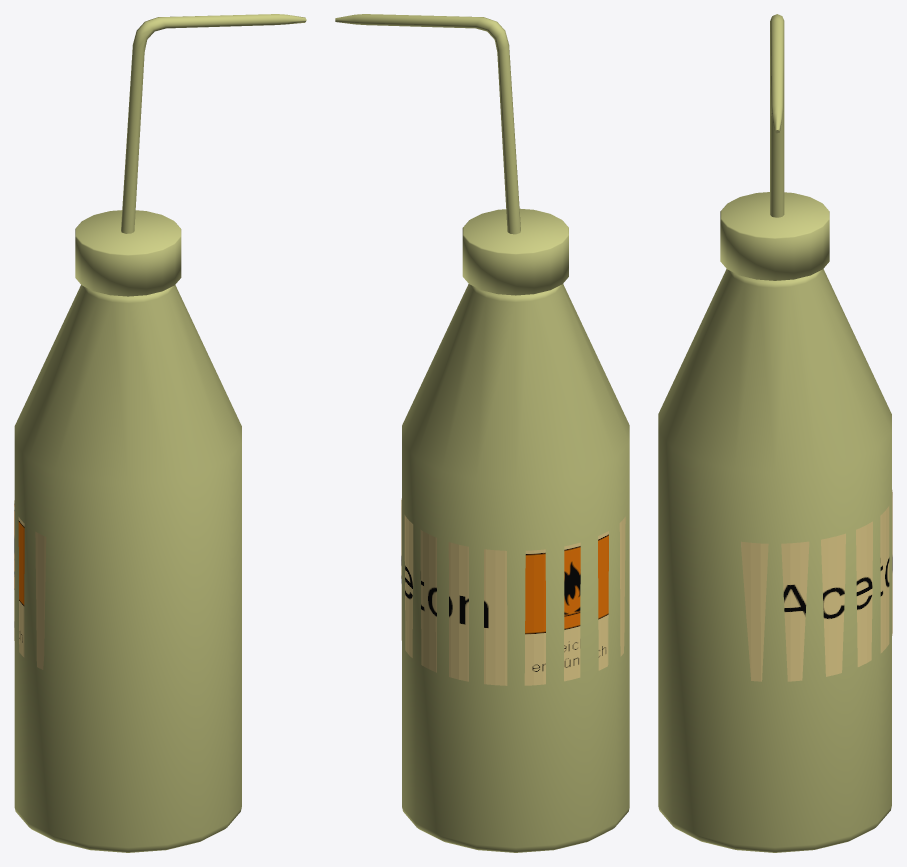
Rendered from Spritzflasche.glb.
3 renders of one model, left to right at view 1: azimuth 30°, elevation 25°; view 2: azimuth 150°, elevation 25°; view 3: azimuth 270°, elevation 25°, orthographic. The views are drawn at different scales.
Parts seen in each view (by area): view 1: Pissette, Label; view 2: Pissette, Label; view 3: Pissette, Label.
Boxes of the visible parts, x1,y1,x2,y2 form: Pissette: (14,14,306,852); Label: (14,500,46,669); Pissette: (335,14,629,852); Label: (401,498,625,685); Pissette: (658,14,891,852); Label: (741,490,892,681).
Size of the model in its own units: 2.46 by 6.58 by 1.74.
Materials: 2 (1 with a texture image).
